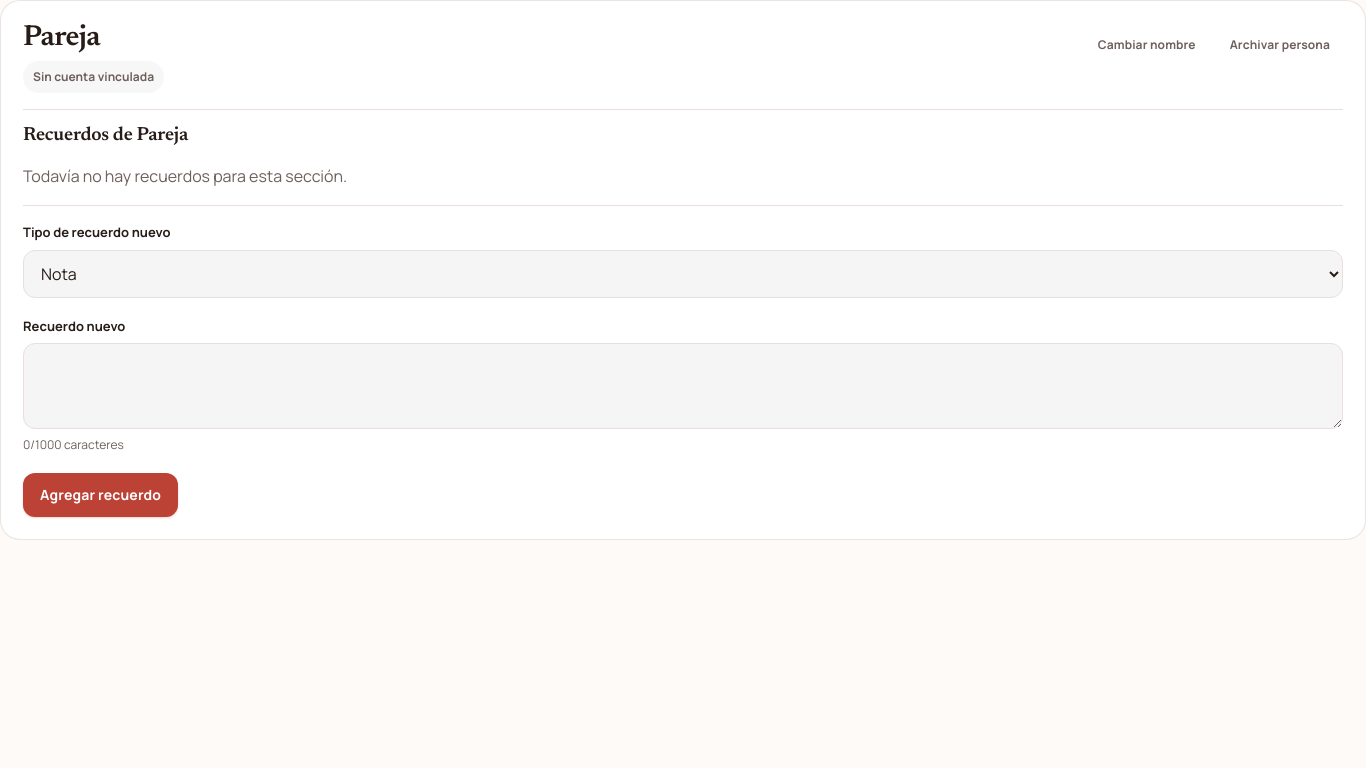
Test: DinerCard › announces diner update status 403
Click the button with aria-label "Cambiar nombre de Pareja": [1147, 45] box [1085,23,1209,67]
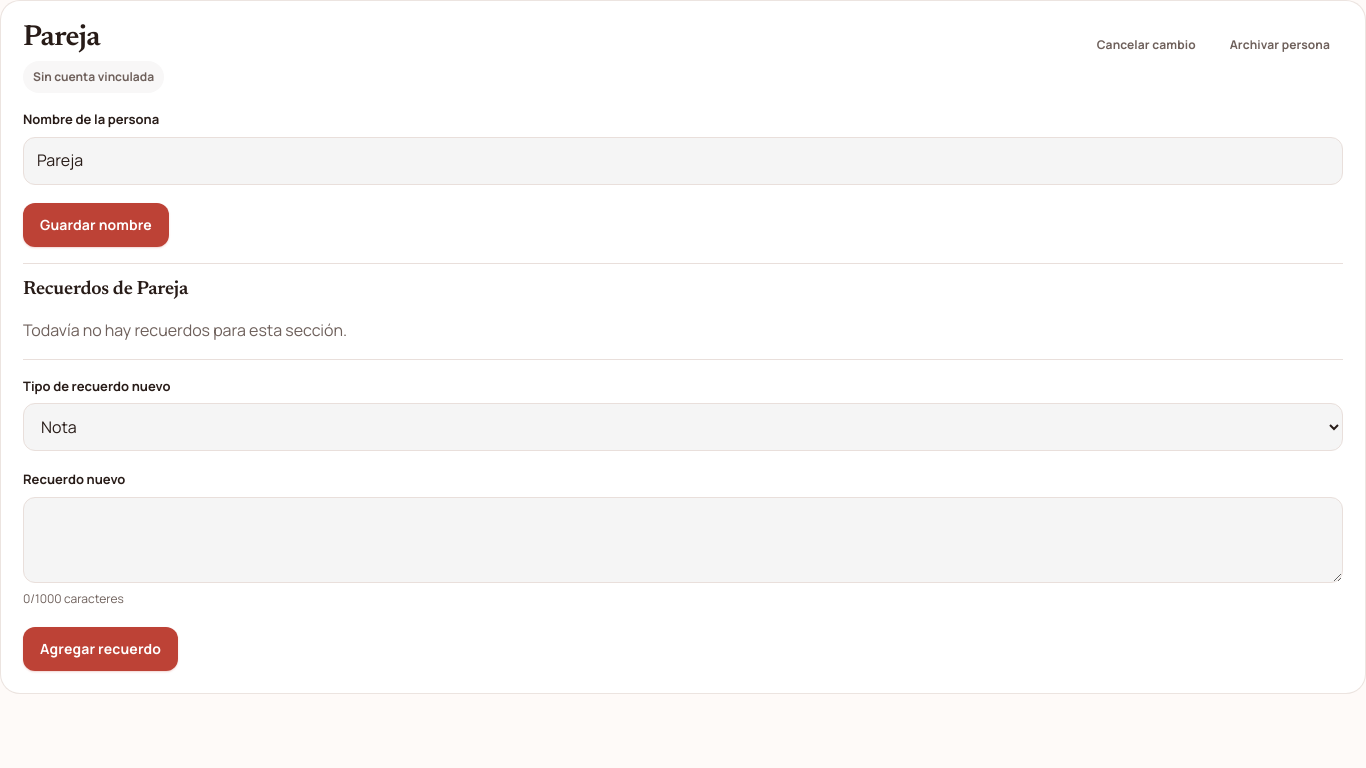
Replace the text in the field labelled "Nombre de la persona" with "Mi pareja": [683, 161] box [23,137,1343,185]
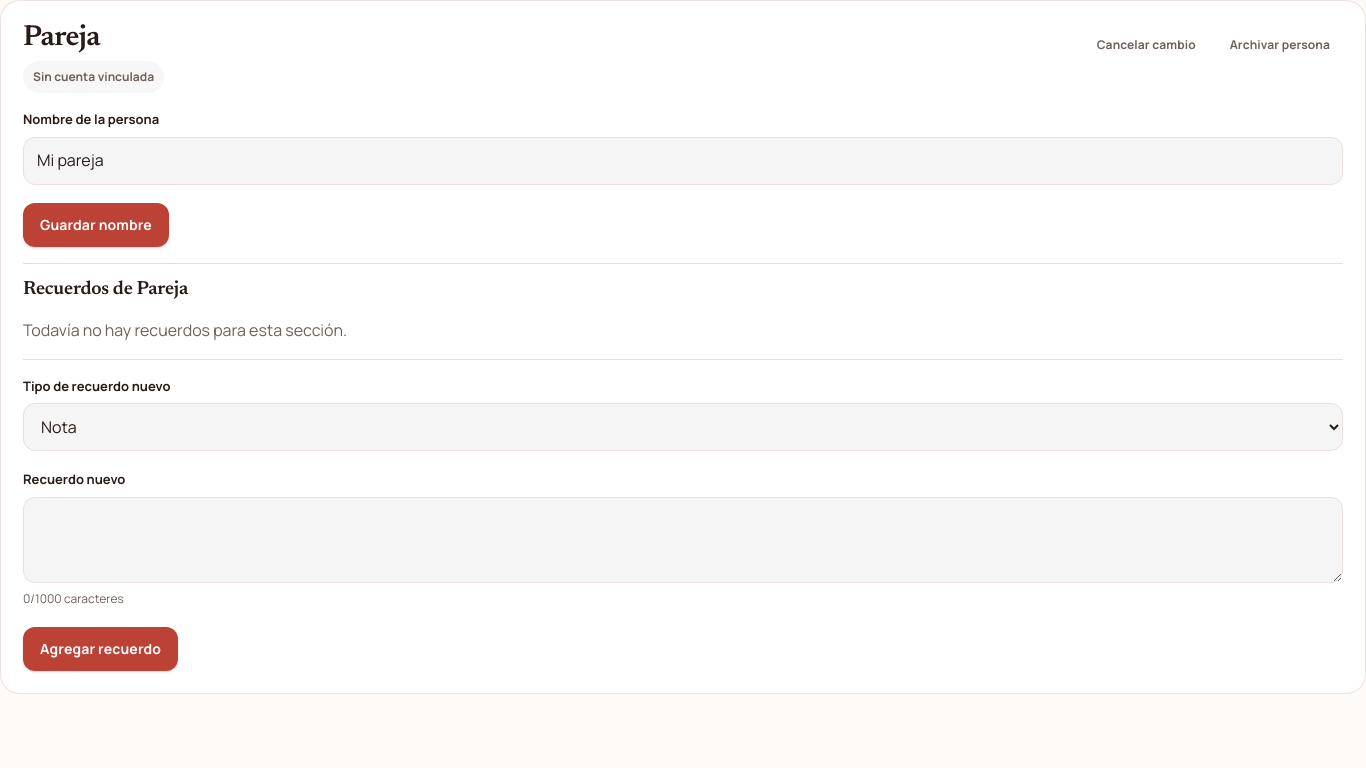
Click the button "Guardar nombre": [96, 225] box [23,203,169,247]
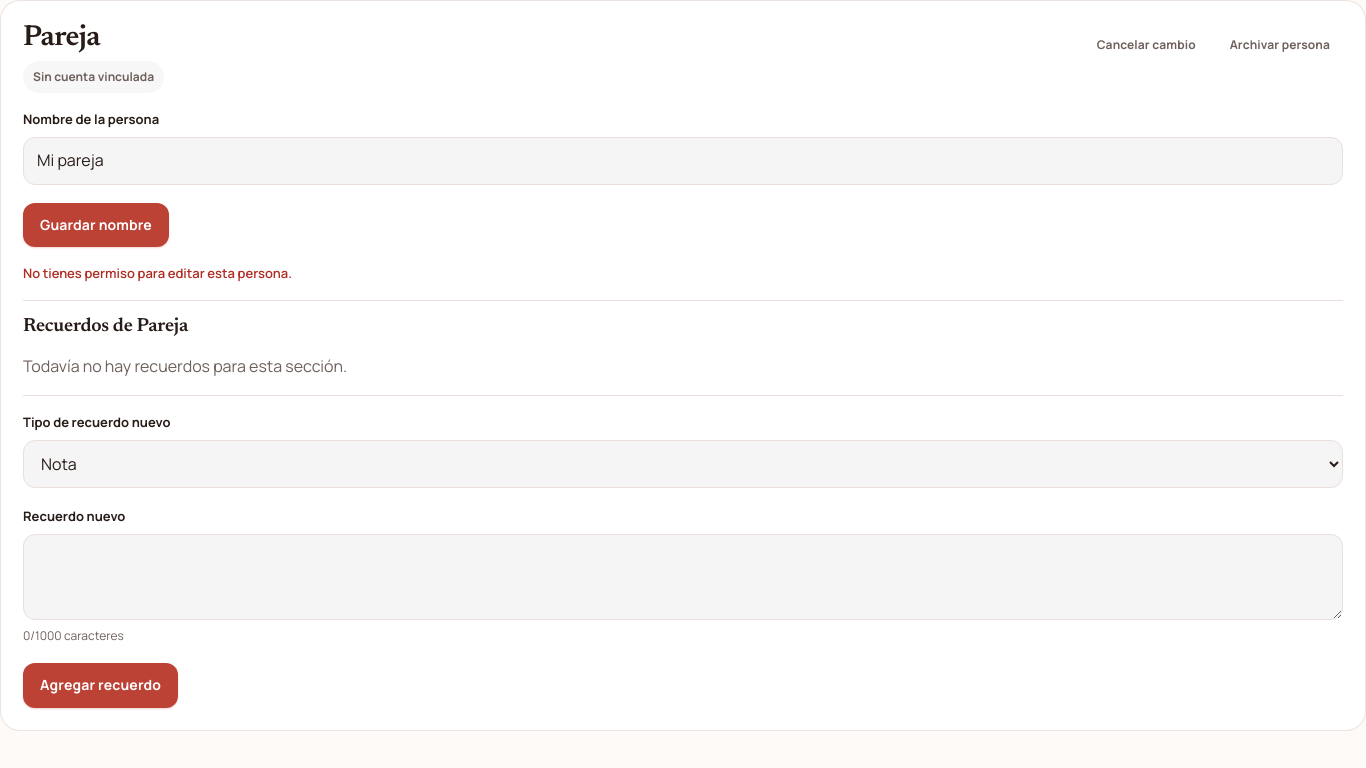
expect the message reads "No tienes permiso para editar esta persona.": met, box [23,264,292,282]
